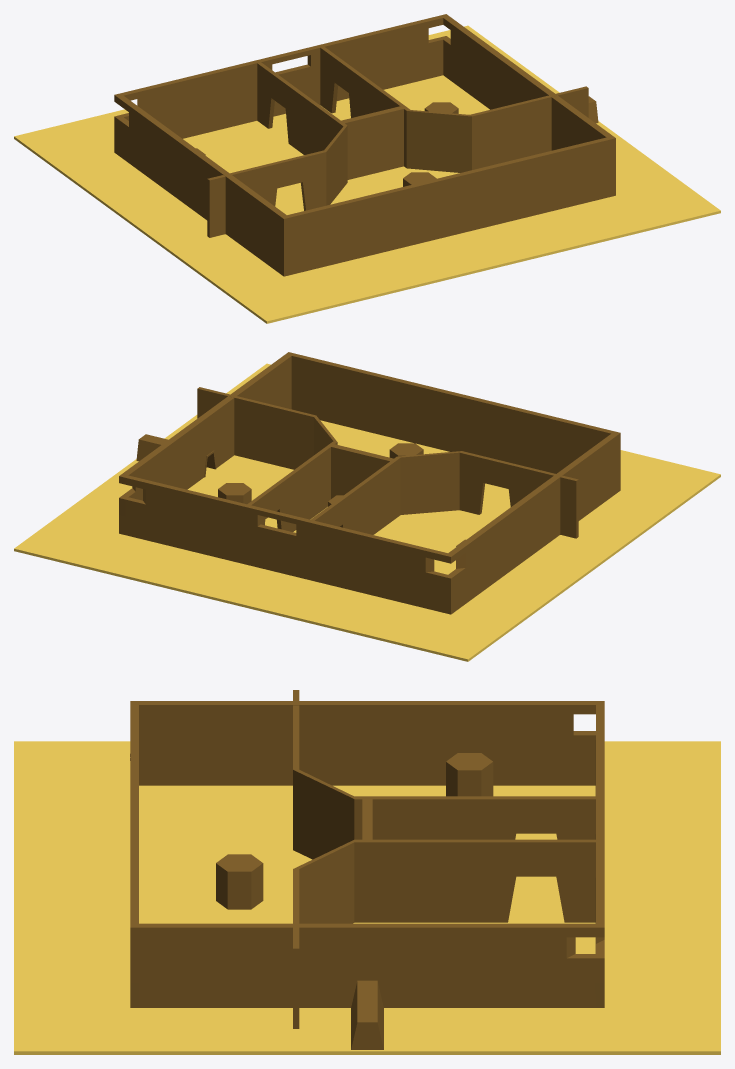
Rendered from level1.glb.
The picture shows the model from 3 angles, top to bottom: view 1: azimuth 30°, elevation 25°; view 2: azimuth 150°, elevation 25°; view 3: azimuth 270°, elevation 25°; orthographic projection. The views are drawn at different scales.
Parts seen in each view (by area): view 1: Parede, Floor, Barrier, Barrier.001, Cube; view 2: Parede, Floor, Barrier.001, Barrier, Cube, Entrance, The Pedestal 1; view 3: Floor, Parede, Barrier, Barrier.001, The Pedestal 4, Entrance, The Pedestal 3.
Part boxes in pixels (box(x1,y1,x2,y2)): Parede: box(114, 14, 615, 276); Floor: box(14, 25, 720, 323); Barrier: box(320, 46, 588, 172); Barrier.001: box(207, 62, 347, 237); Cube: box(341, 106, 403, 179); Parede: box(119, 352, 620, 614); Floor: box(14, 363, 720, 661); Barrier.001: box(311, 451, 578, 538); Barrier: box(197, 387, 337, 531); Cube: box(331, 444, 393, 498); Entrance: box(136, 434, 216, 477); The Pedestal 1: box(218, 483, 251, 504); Floor: box(14, 741, 720, 1054); Parede: box(130, 701, 604, 1007); Barrier: box(293, 839, 595, 1028); Barrier.001: box(293, 690, 595, 859); The Pedestal 4: box(216, 854, 263, 909); Entrance: box(351, 980, 383, 1049); The Pedestal 3: box(446, 753, 493, 796).
Bounding box in the file's own units: 144 × 20.88 × 139.
